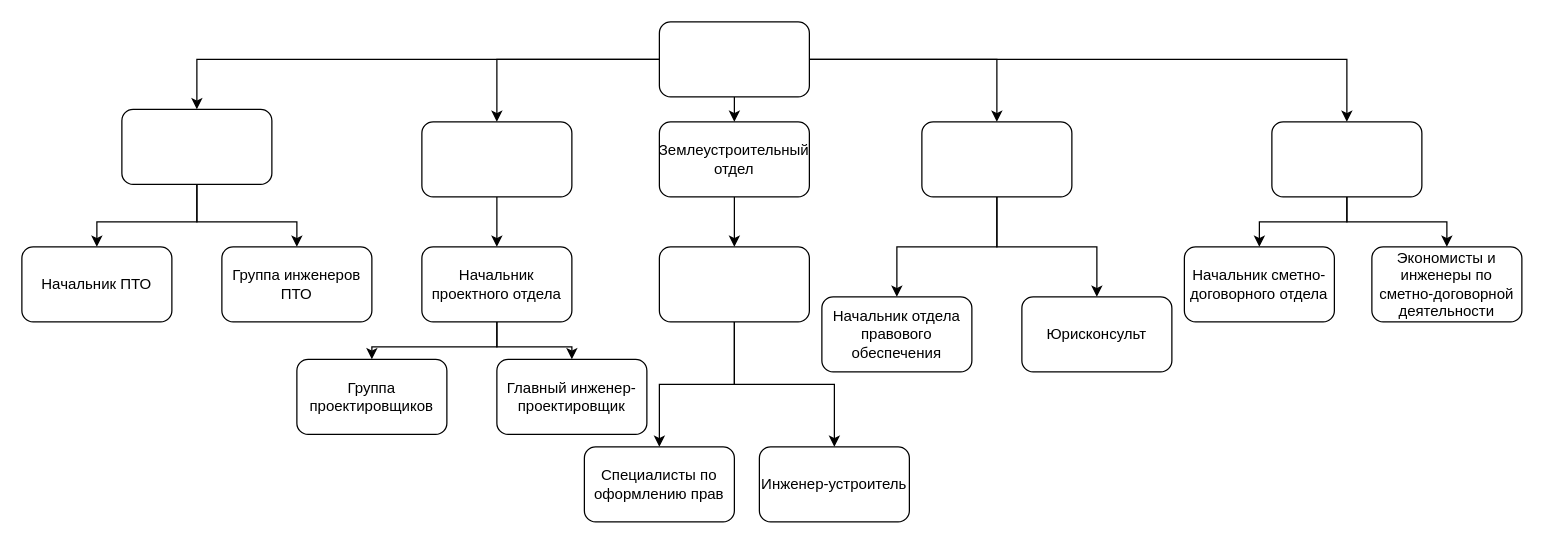
Some shapes in this 1544 by 544 pixel diagram are drawn without their labels. The shapes that lost their labels are listed below. From the top down, each one's centre as x and y in pixels, then its label:
the point at 733,59: Генеральный директор
the point at 196,146: Производственно технический отдел
the point at 496,159: Проектный отдел
the point at 996,159: Отдел правового обеспечения
the point at 1346,159: Сметно-договорной отдел
the point at 733,284: Начальник землеустроительного отдела
